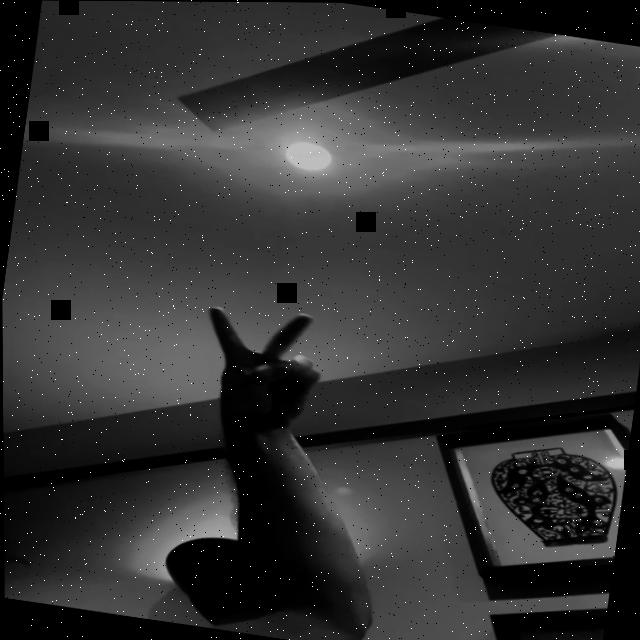Scissors: (192, 296, 334, 431)
